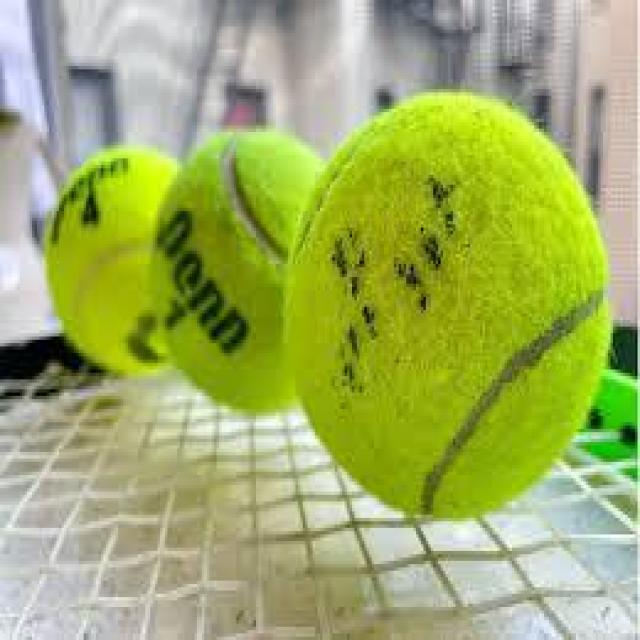ball: (282, 82, 620, 524)
